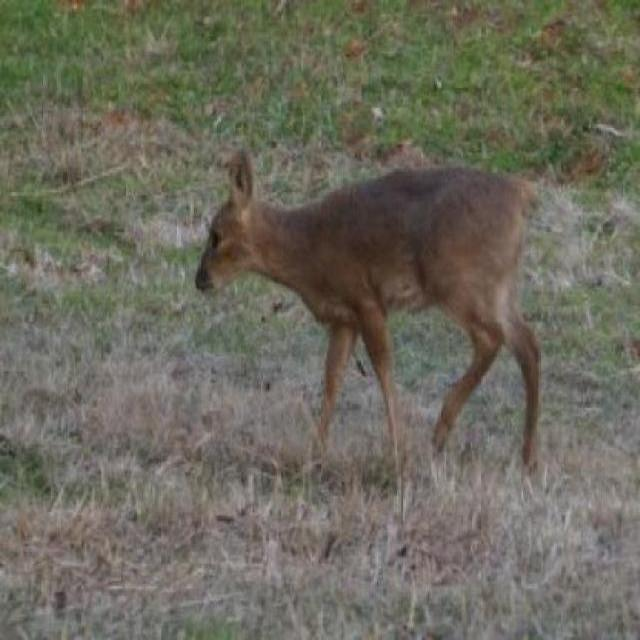deer: (196, 147, 561, 504)
